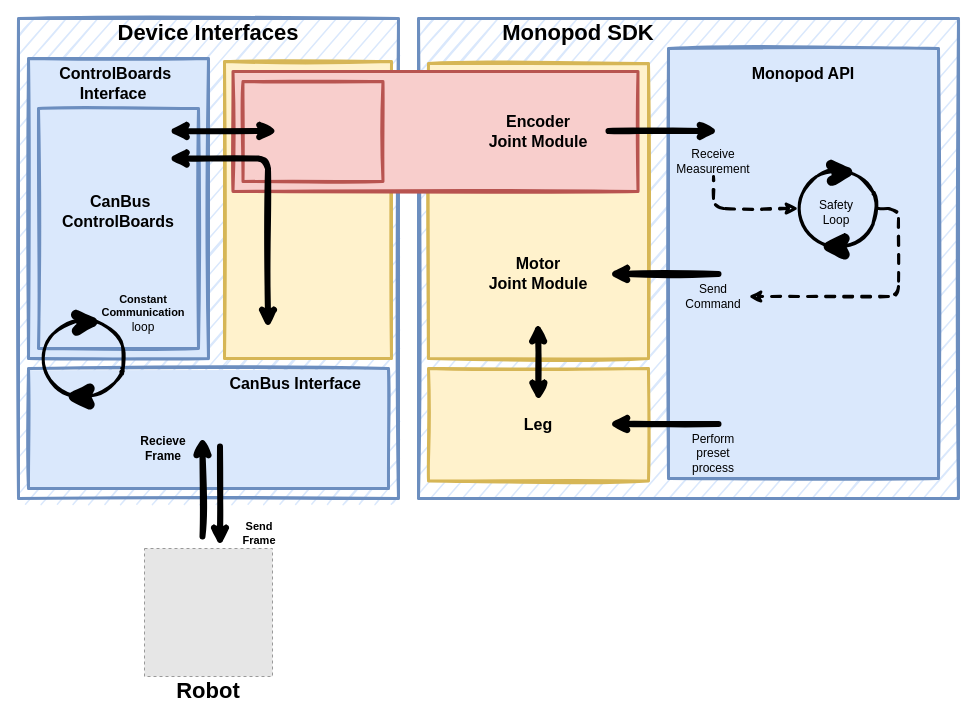
The diagram is 977 pixels wide and 724 high, and some of its shapes have lost their labels. Grey dashed boxes stand in for pictures. Each missing label, with the centre of its shape:
"Encoder Interface" goes at [312,131].
"Motor Interface" goes at [307,210].
